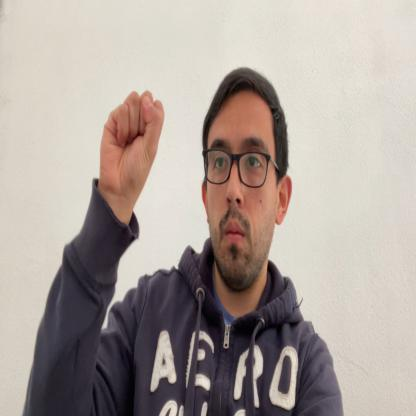S: (100, 92, 164, 194)
